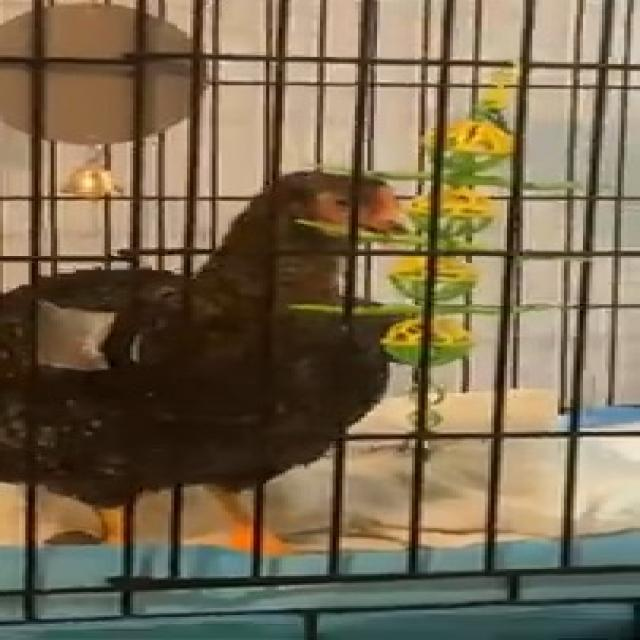Breathing: (0, 169, 491, 578)
